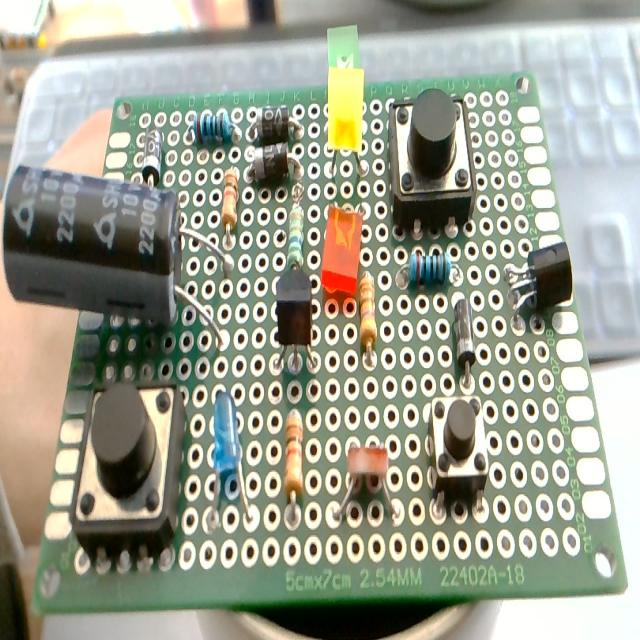Electrolytic capacitor: (1, 162, 222, 352)
cds: (332, 434, 404, 538)
diode: (240, 141, 318, 186), (128, 120, 173, 194), (451, 295, 479, 390), (245, 107, 309, 144)
led: (206, 384, 258, 533), (321, 61, 377, 179), (318, 194, 366, 296), (320, 24, 366, 68)
resistor: (278, 400, 315, 537), (388, 252, 467, 290), (356, 265, 380, 376), (186, 109, 242, 153), (283, 192, 311, 275), (218, 155, 240, 248)
switch: (64, 371, 194, 550), (382, 86, 484, 243), (423, 386, 493, 516)
transistor: (498, 227, 576, 334), (265, 270, 322, 379)
